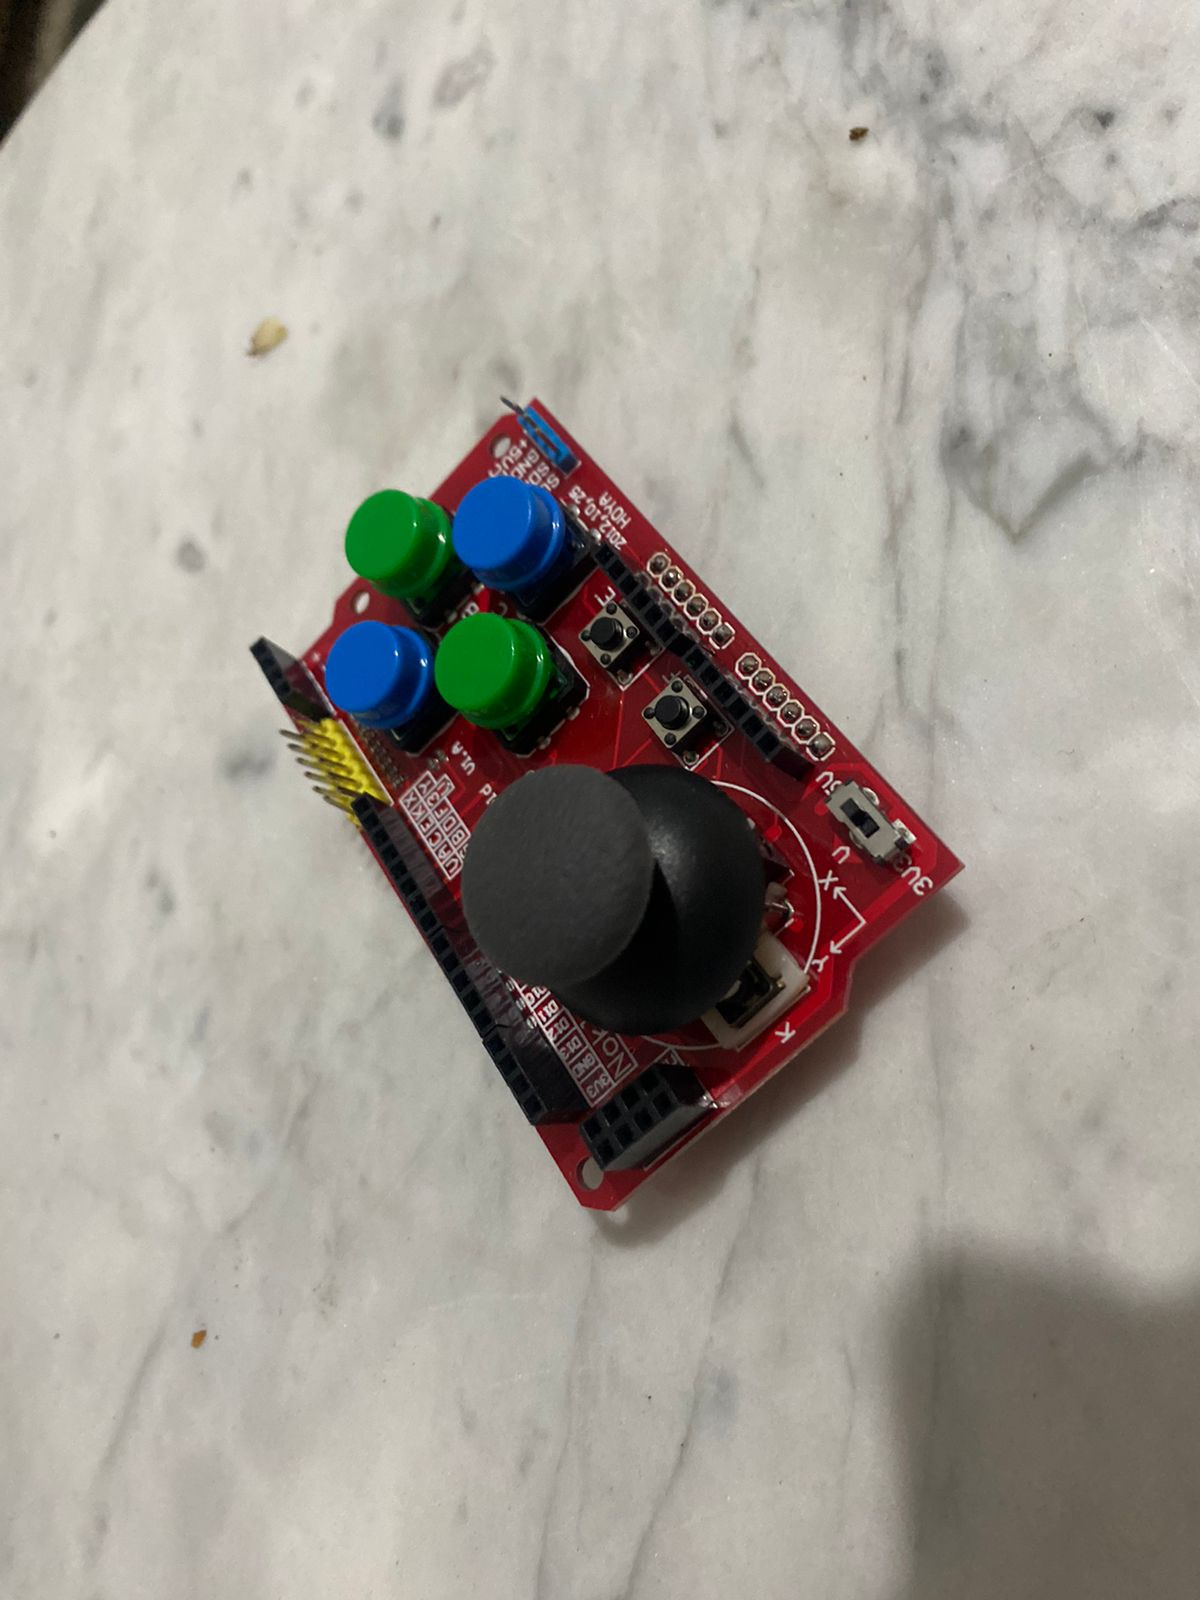Clavier-Joystick: (239, 389, 961, 1214)
